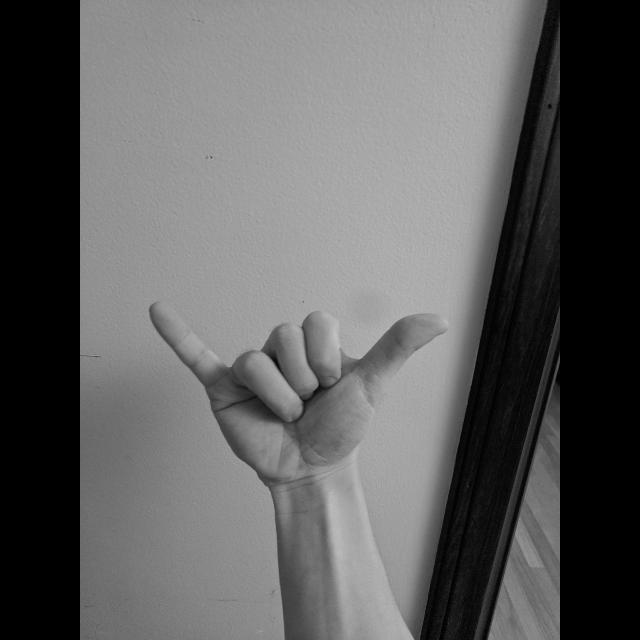Y: (145, 296, 457, 497)
